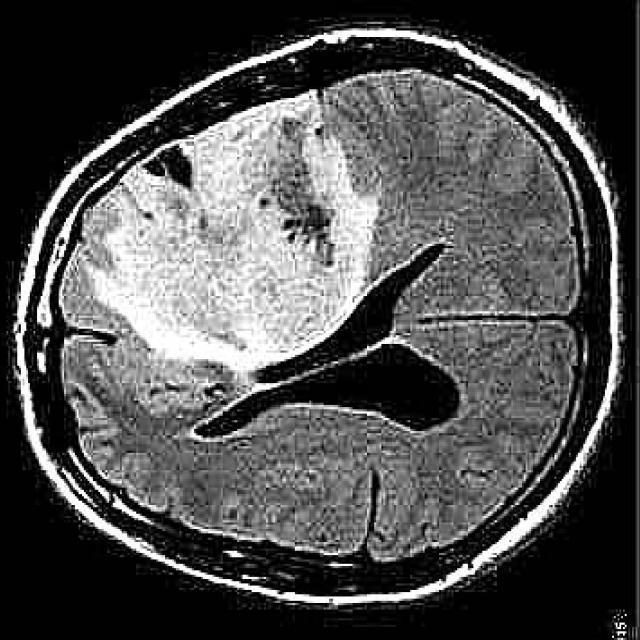tumor: (101, 91, 375, 372)
